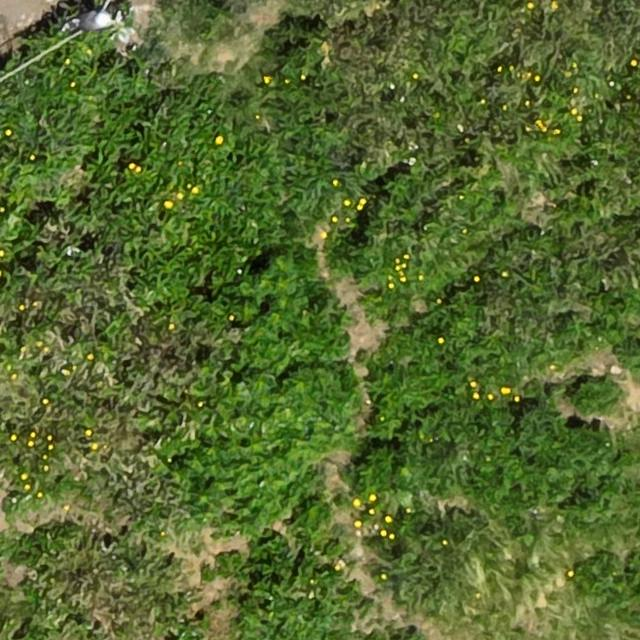umineko: (75, 12, 112, 30)
